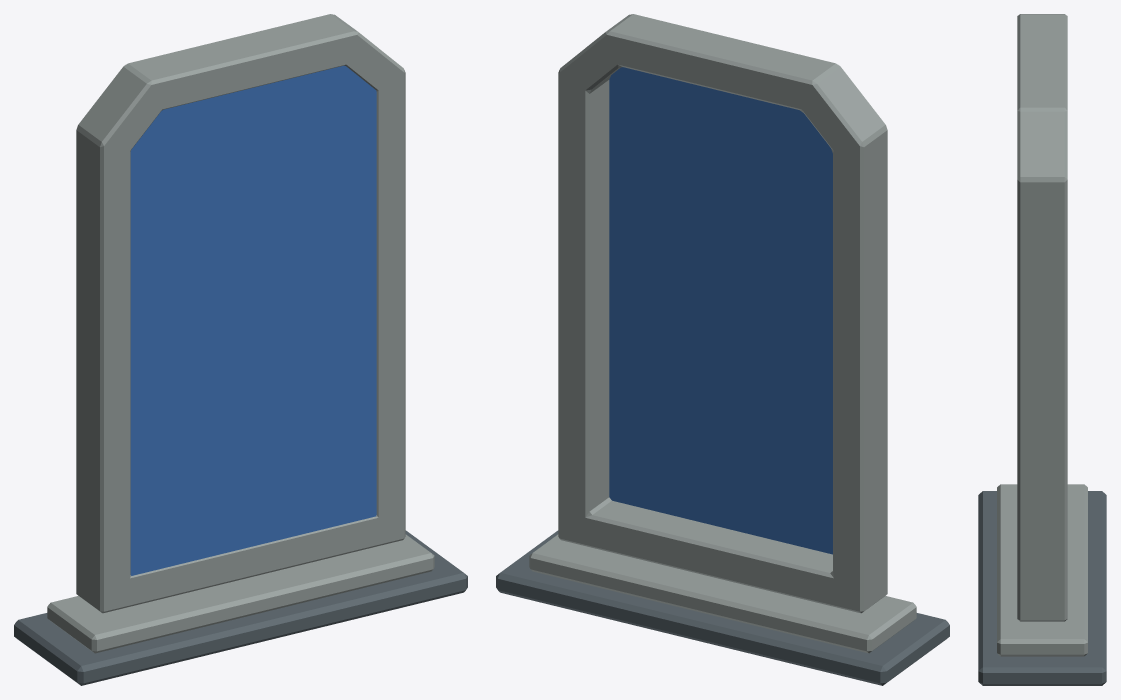
The model's file is PF_LeaderboardBoard.fbx.
3 views of the same model, side by side, from view 1: azimuth 30°, elevation 25°; view 2: azimuth 150°, elevation 25°; view 3: azimuth 270°, elevation 25° (orthographic). The views are drawn at different scales.
Parts seen in each view (by area): view 1: FrontPanel.002, Frame.002, BaseUpper.002, BaseLower.002; view 2: FrontPanel.002, Frame.002, BaseUpper.002, BaseLower.002; view 3: Frame.002, BaseLower.002, BaseUpper.002.
Boxes of the visible parts, bbox=[...] form: FrontPanel.002: bbox=[130, 65, 376, 575]; Frame.002: bbox=[76, 14, 405, 613]; BaseUpper.002: bbox=[47, 534, 434, 653]; BaseLower.002: bbox=[14, 530, 467, 685]; FrontPanel.002: bbox=[609, 67, 832, 554]; Frame.002: bbox=[558, 14, 887, 613]; BaseUpper.002: bbox=[529, 534, 916, 653]; BaseLower.002: bbox=[496, 530, 949, 685]; Frame.002: bbox=[1017, 14, 1067, 621]; BaseLower.002: bbox=[978, 491, 1106, 685]; BaseUpper.002: bbox=[997, 484, 1087, 656].
Bounding box in the file's own units: 5.75 × 8 × 1.73.
